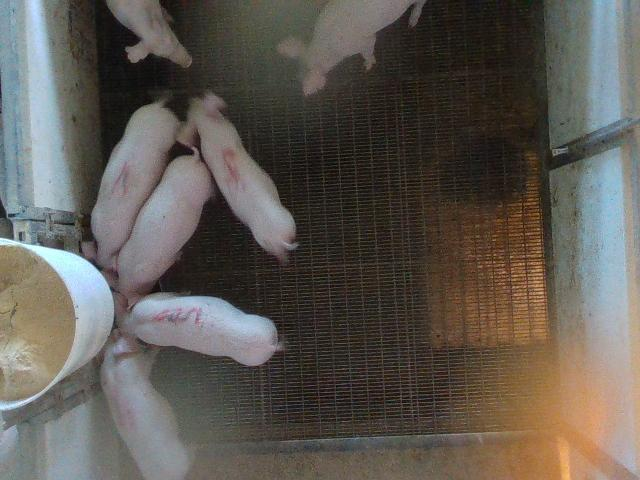pig-1: (91, 102, 180, 271)
pig-3: (112, 292, 281, 366)
pig-4: (100, 330, 190, 479)
pig-5: (176, 92, 296, 262)
